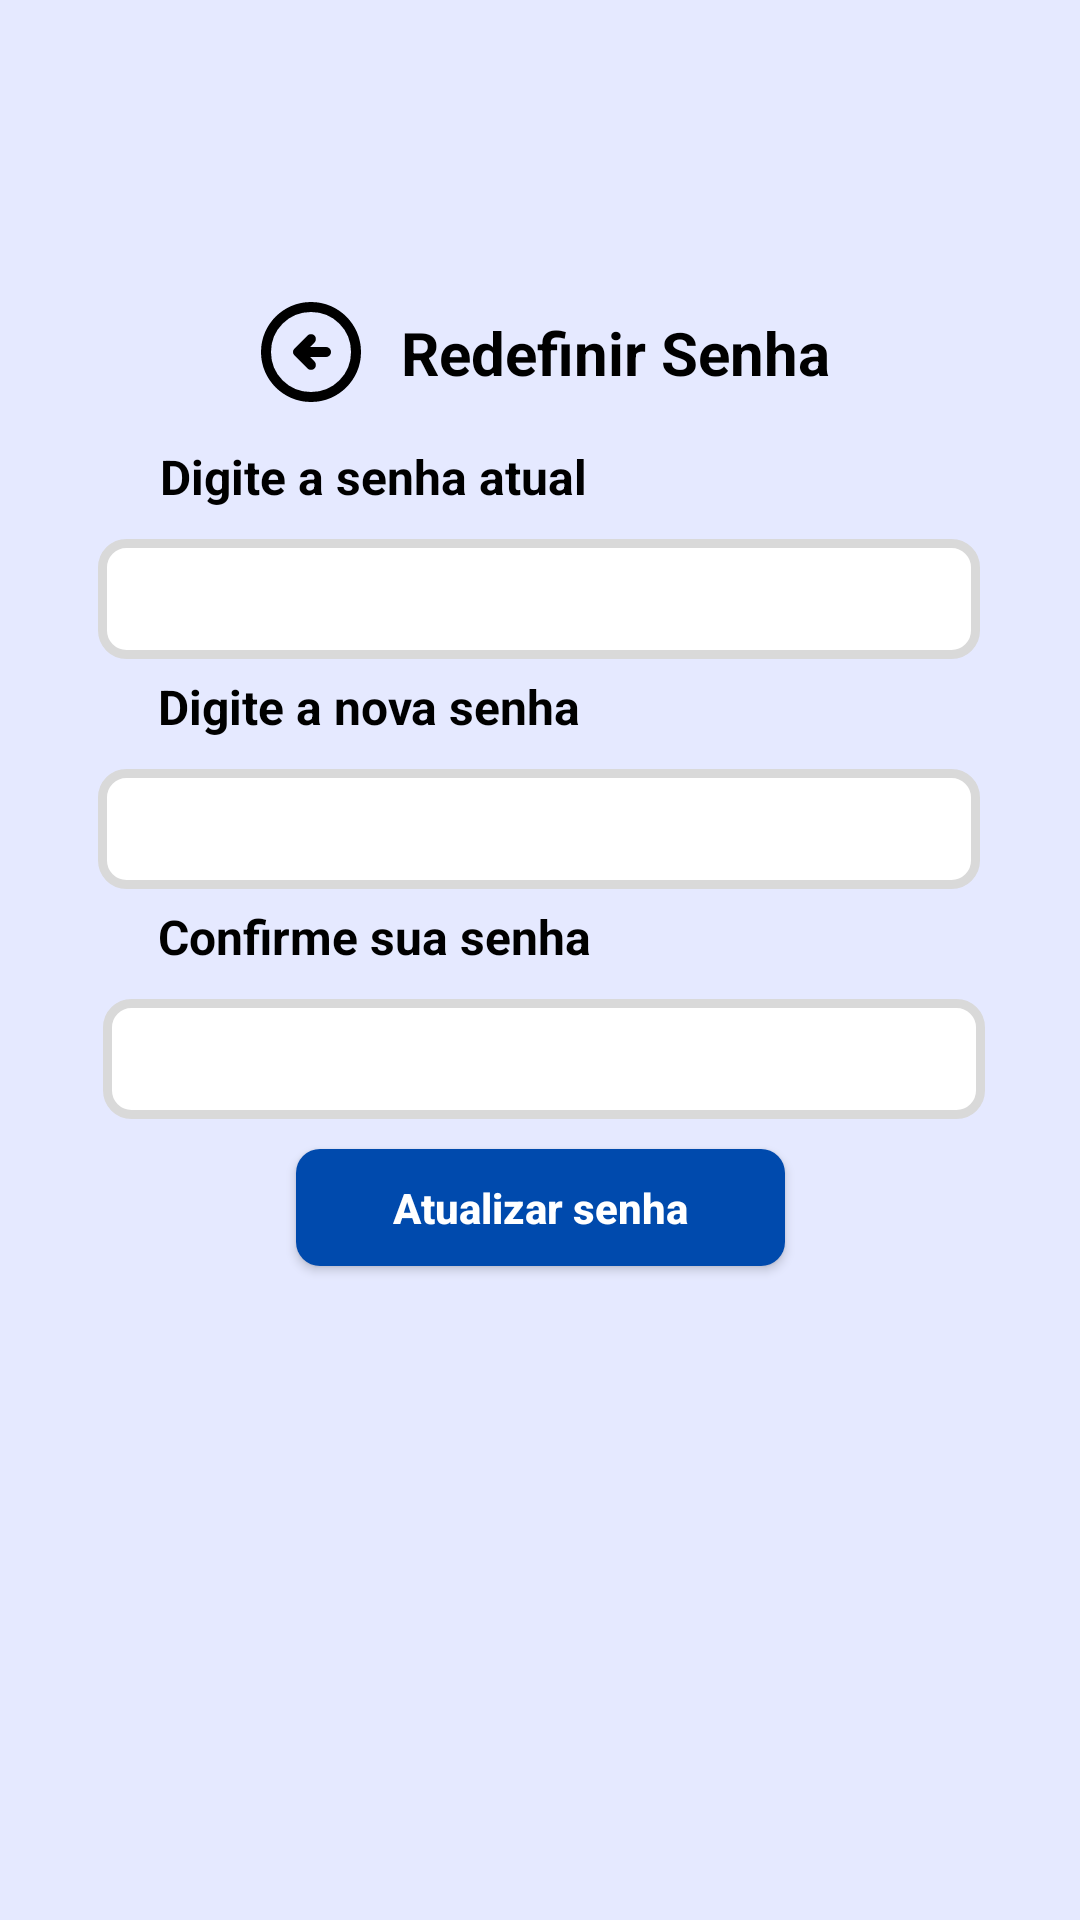

Screen size 1080×1920. Icon name, then its center in pixels as (x,y):
back: (311,352)
